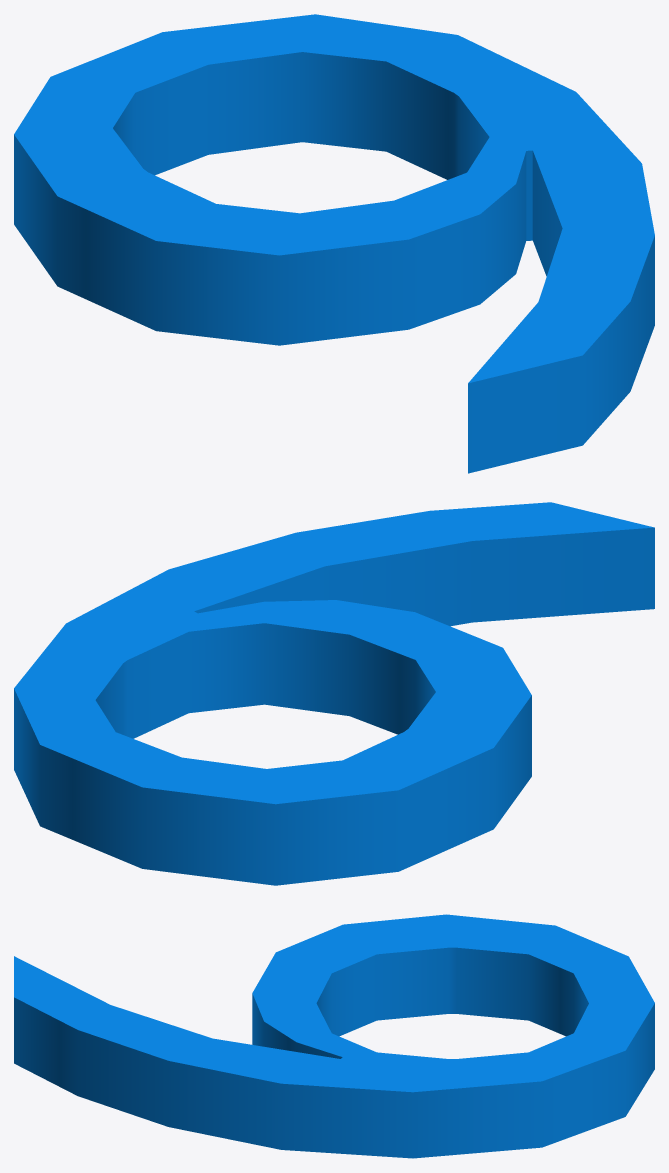
The model's file is Nine.fbx.
The picture shows the model from 3 angles, top to bottom: view 1: azimuth 30°, elevation 25°; view 2: azimuth 150°, elevation 25°; view 3: azimuth 270°, elevation 25°; orthographic projection. The views are drawn at different scales.
Parts seen in each view (by area): view 1: Nine; view 2: Nine; view 3: Nine.
Boxes of the visible parts, bbox=[...] form: Nine: bbox=[14, 14, 654, 473]; Nine: bbox=[14, 502, 654, 885]; Nine: bbox=[14, 914, 654, 1158].
Size of the model in its own units: 0.1445 by 0.0251 by 0.2202.
